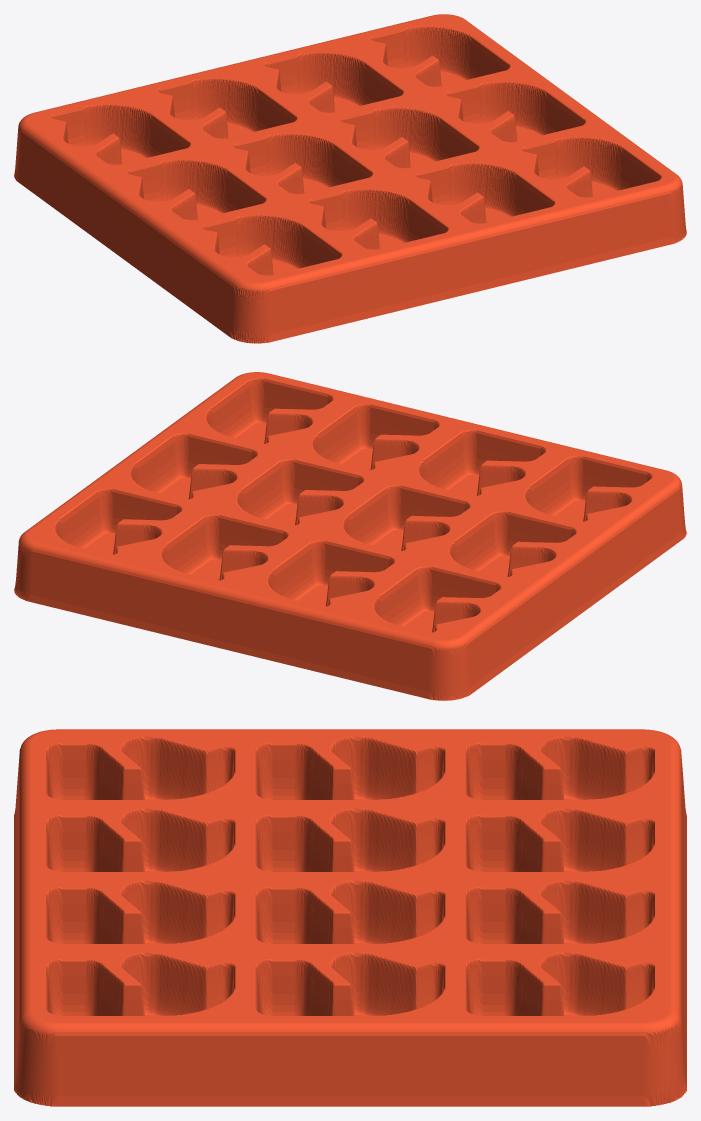
Rendered from mold.glb.
The picture shows the model from 3 angles, top to bottom: view 1: azimuth 30°, elevation 25°; view 2: azimuth 150°, elevation 25°; view 3: azimuth 270°, elevation 25°; orthographic projection. The views are drawn at different scales.
Visible parts, largest first — view 1: geometry_0; view 2: geometry_0; view 3: geometry_0.
Boxes of the visible parts, x1=… form: geometry_0: x1=14, y1=14, x2=686, y2=343; geometry_0: x1=14, y1=372, x2=686, y2=700; geometry_0: x1=14, y1=729, x2=686, y2=1106.
Bounding box in the file's own units: 0.1497 × 0.0175 × 0.1389.
